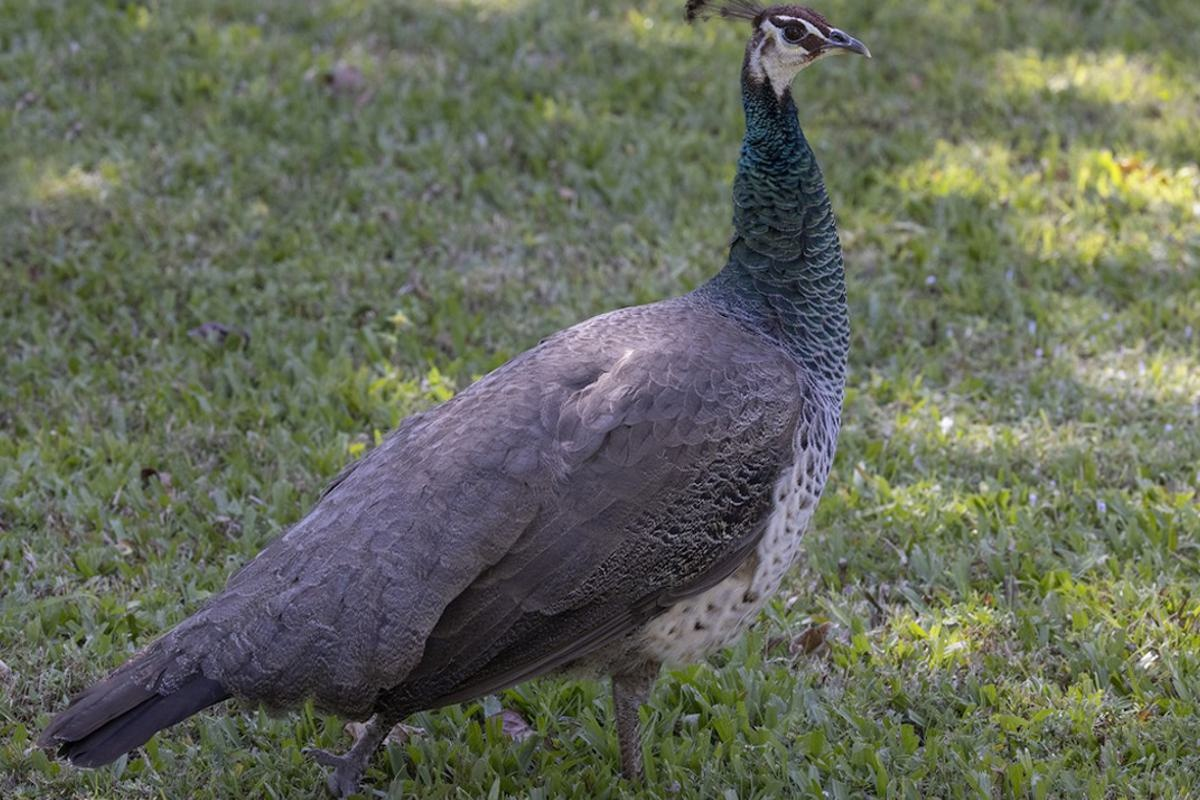peacock: (123, 16, 895, 800)
